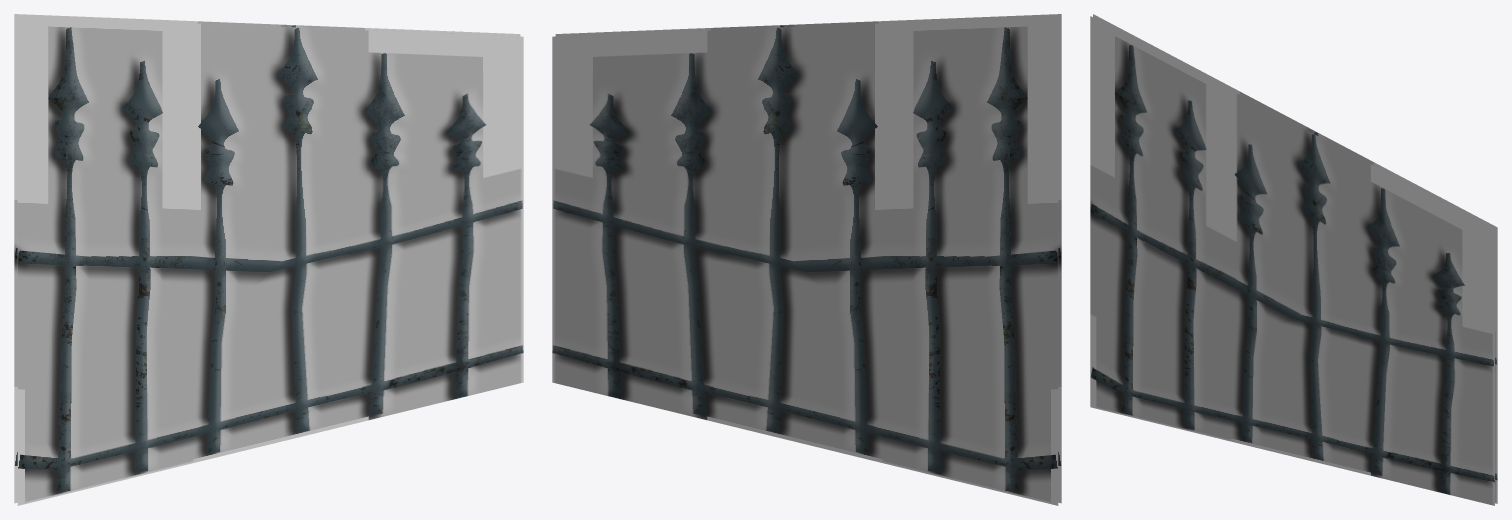
3 views of the same model, side by side, from view 1: azimuth 30°, elevation 25°; view 2: azimuth 150°, elevation 25°; view 3: azimuth 330°, elevation 25° (orthographic). The views are drawn at different scales.
Parts seen in each view (by area): view 1: Grid_Lateral; view 2: Grid_Lateral; view 3: Grid_Lateral.
Part boxes in pixels (x1,y1,x2,y2): Grid_Lateral: [14, 14, 523, 505]; Grid_Lateral: [552, 14, 1061, 505]; Grid_Lateral: [1090, 14, 1497, 505].
Bounding box in the file's own units: 37.77 × 34.91 × 0.4457.
